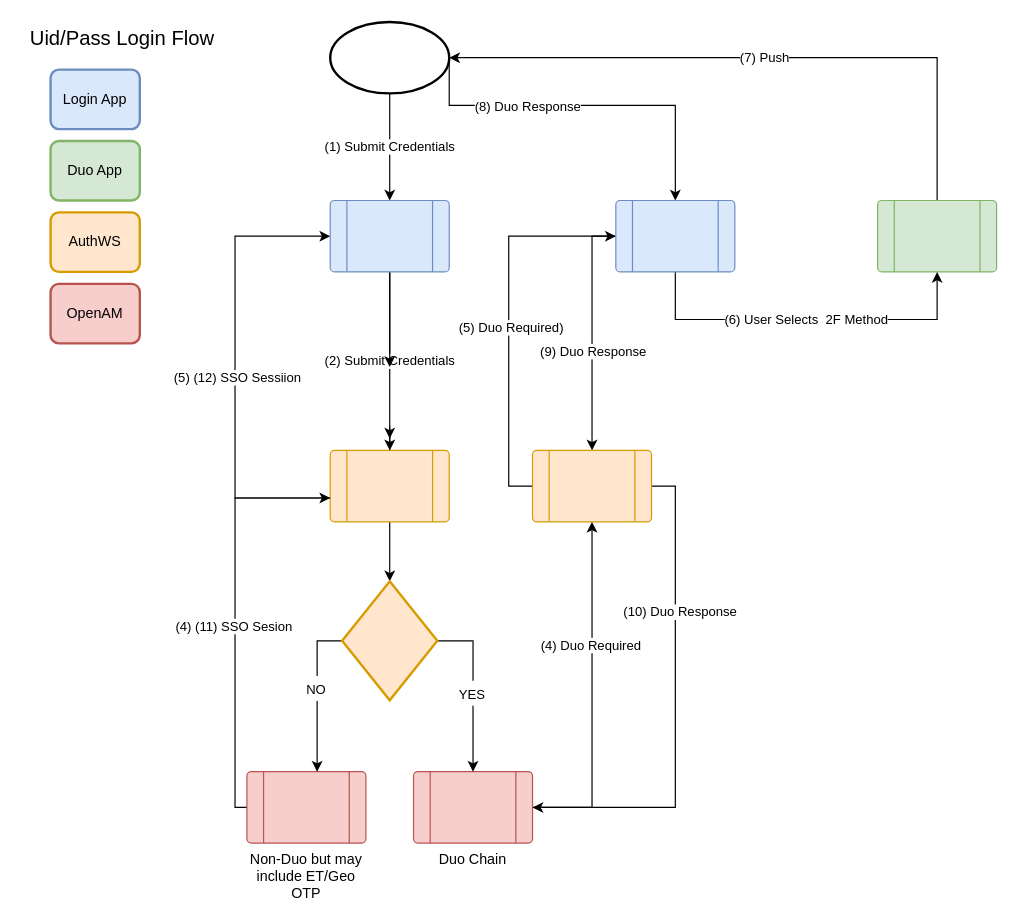
This 1017x922 diagram has some shape labels left out. Here are the shapes that lost their labels. From the top down, the centre of each, then its label:
At point 389,57: "User Agent".
At point 389,640: "DUO?".
